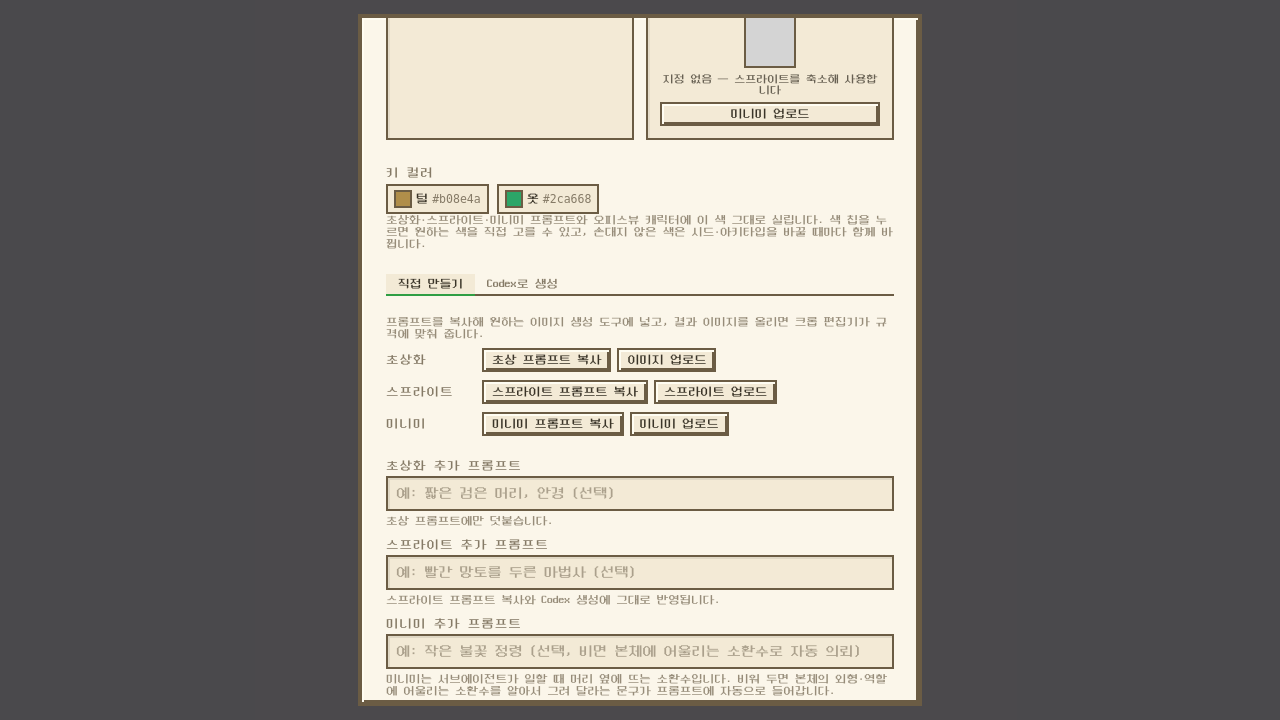
Test: nested PortraitEditor clicks do not bubble to ProfileDialog's backdrop › clicking the 레트로 필터 checkbox inside the editor does not close ProfileDialog
This screenshot has width=1280, height=720.
(page scrolled)
Click the button "이미지 업로드".
click(667, 360)  # box x1=617 y1=348 x2=716 y2=372
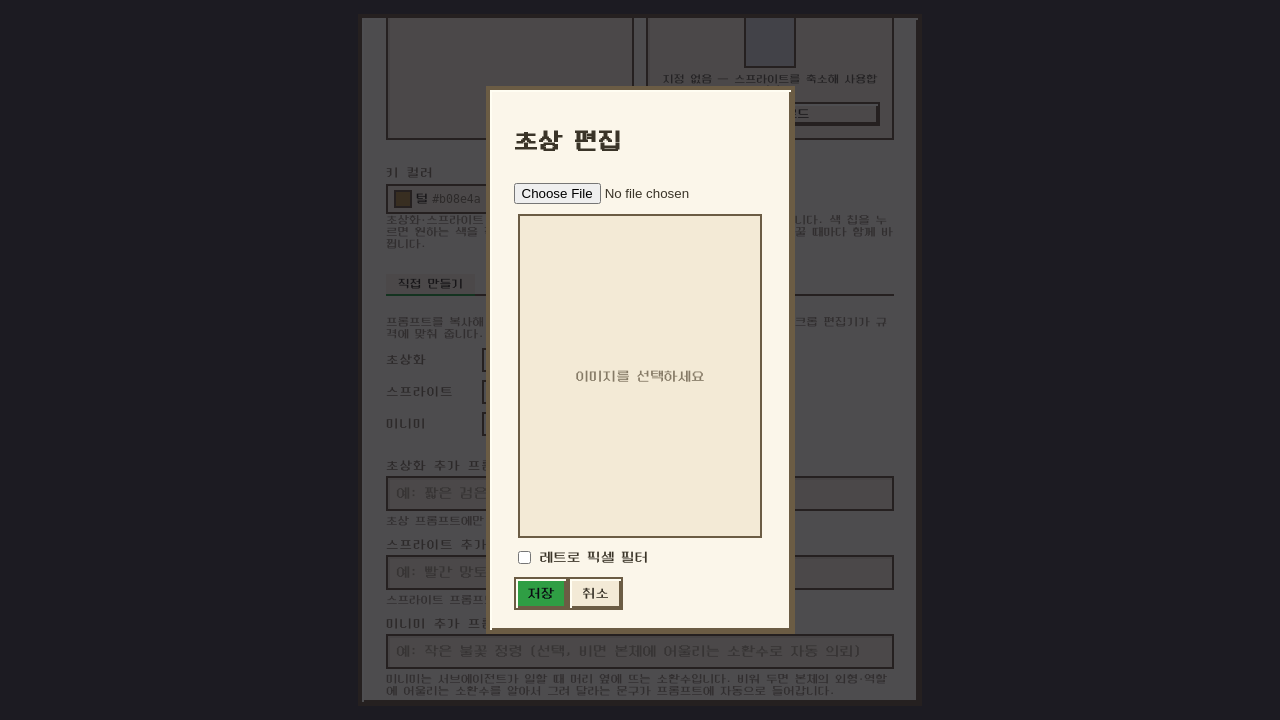
Click the checkbox labelled "레트로 픽셀 필터".
click(524, 558)  # box x1=518 y1=551 x2=530 y2=564
(page scrolled)
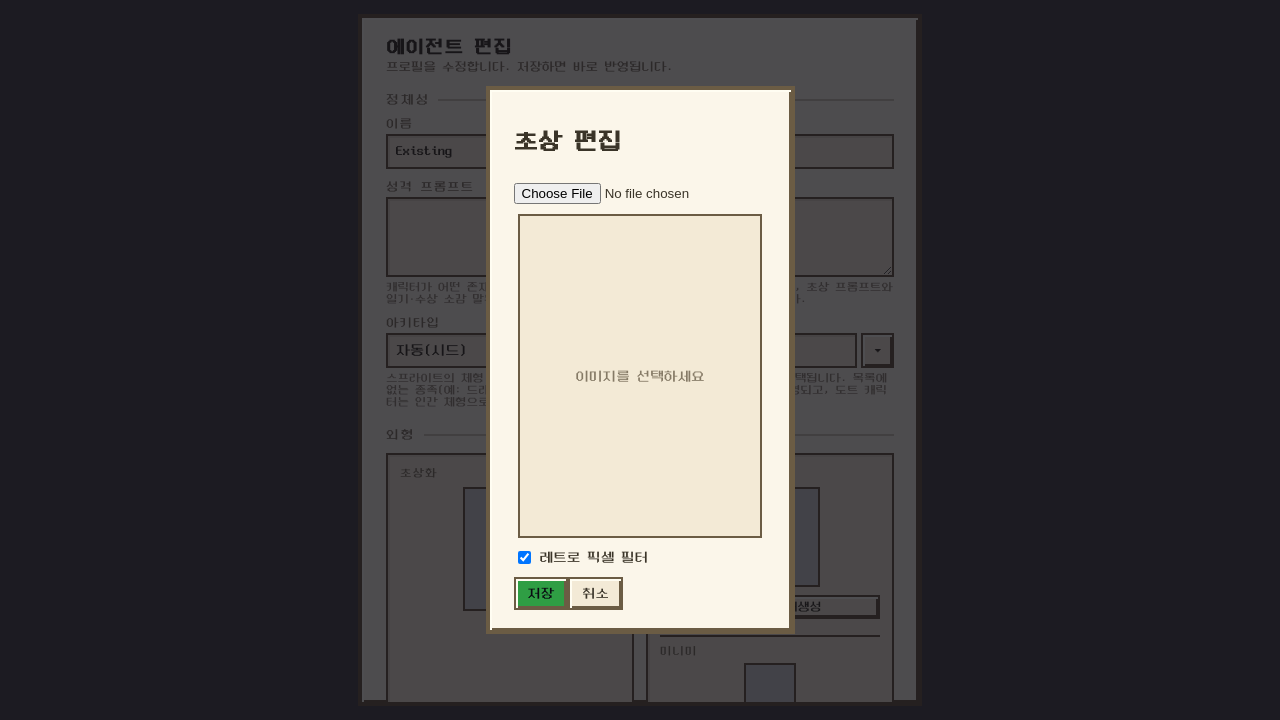
Check: the heading "에이전트 편집" is shown, box x1=386 y1=38 x2=512 y2=57
